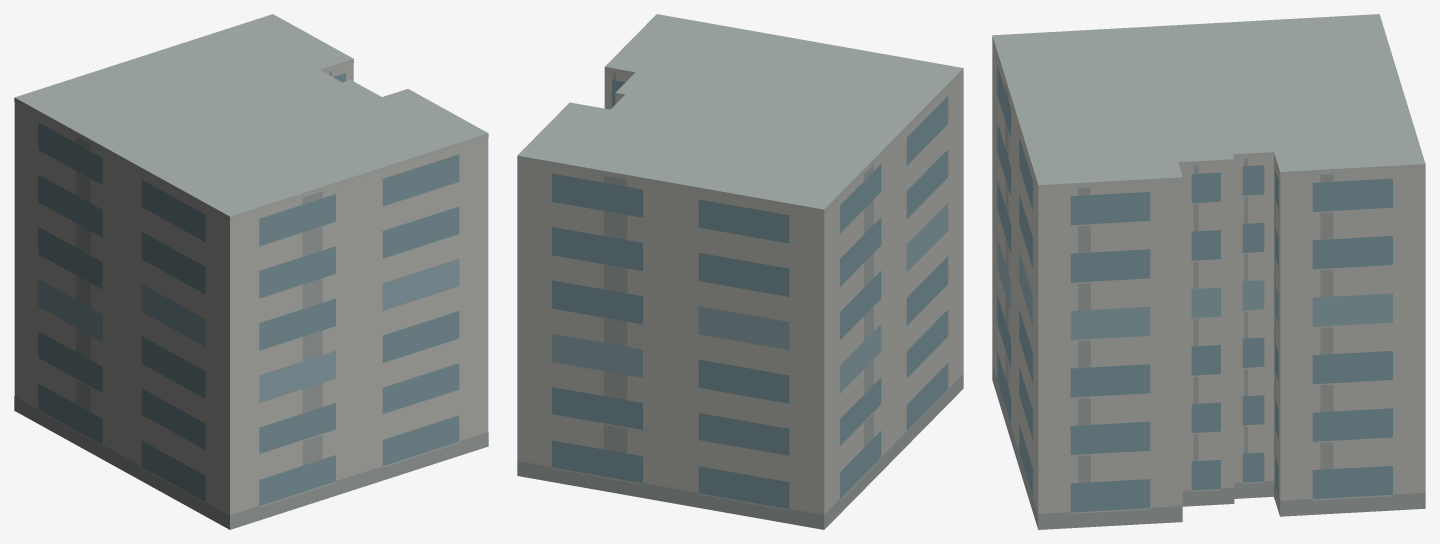
Rendered from survey-upis-32709201.glb.
The picture shows the model from 3 angles, left to right: view 1: azimuth 30°, elevation 25°; view 2: azimuth 150°, elevation 25°; view 3: azimuth 270°, elevation 25°; orthographic projection. The views are drawn at different scales.
Visible parts, largest first — view 1: survey-upis-32709201.tmp; view 2: survey-upis-32709201.tmp; view 3: survey-upis-32709201.tmp.
Part boxes in pixels (x1,y1,x2,y2): survey-upis-32709201.tmp: (14,14,488,529); survey-upis-32709201.tmp: (517,14,963,529); survey-upis-32709201.tmp: (992,14,1425,529).
Bounding box in the file's own units: 17.64 × 16.55 × 18.86.
